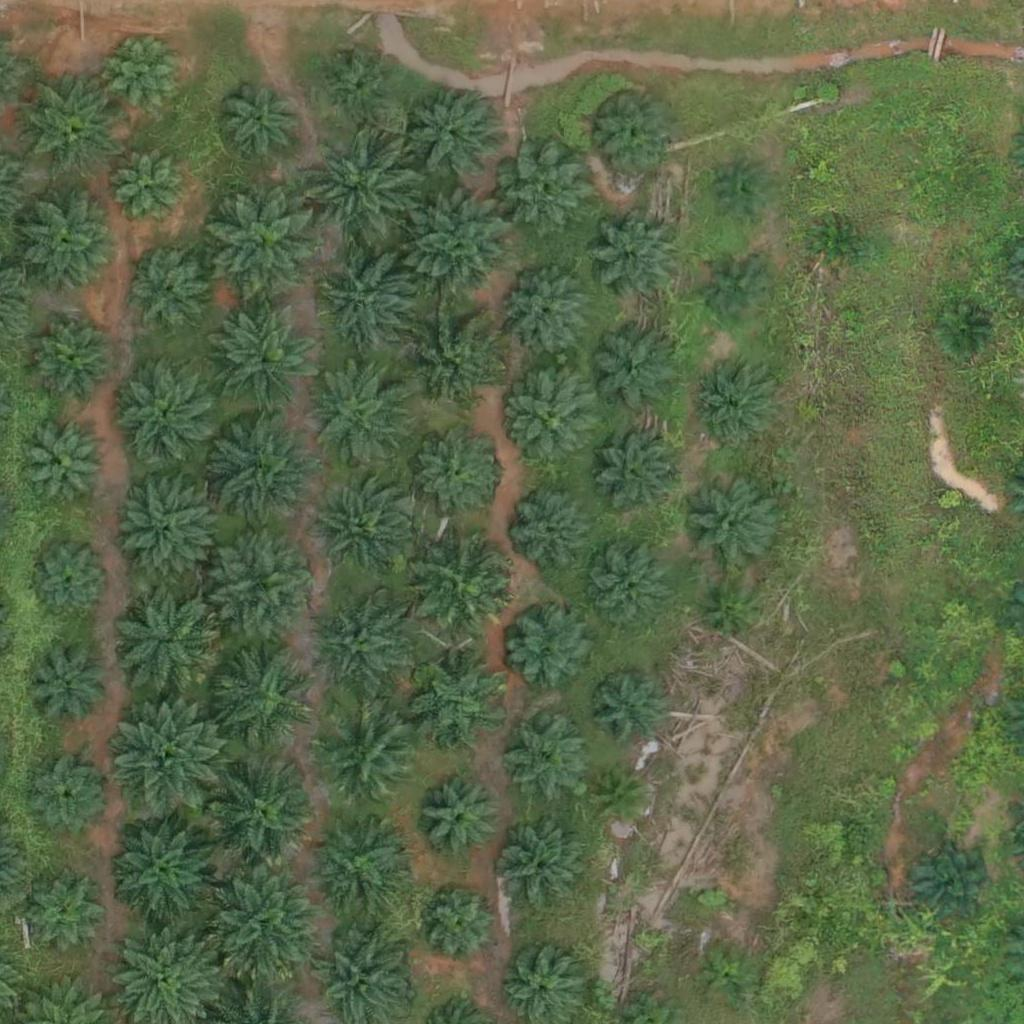Kelapa_Sawit: (307, 119, 432, 244), (209, 869, 322, 983), (109, 700, 222, 814), (209, 183, 322, 296), (214, 302, 327, 415), (208, 411, 321, 524), (108, 812, 221, 925), (208, 529, 320, 643), (211, 758, 323, 872), (111, 587, 223, 701), (308, 698, 420, 811), (21, 74, 121, 175), (322, 249, 422, 350), (312, 364, 412, 465), (312, 485, 412, 586), (410, 195, 510, 296), (402, 311, 502, 412), (416, 534, 516, 635), (489, 813, 589, 914), (411, 655, 511, 756), (21, 194, 121, 294), (118, 361, 218, 461), (121, 475, 221, 575), (315, 596, 415, 696), (312, 818, 412, 918), (211, 647, 311, 747), (508, 373, 596, 462), (411, 93, 499, 181), (412, 428, 500, 516), (508, 485, 596, 573), (507, 605, 595, 693), (691, 360, 779, 448), (505, 710, 593, 798), (218, 79, 305, 168), (106, 32, 193, 120), (23, 644, 110, 732), (29, 538, 116, 626), (502, 147, 589, 235), (504, 272, 591, 360), (592, 214, 679, 302), (590, 327, 677, 415), (590, 429, 677, 517), (584, 547, 671, 635), (691, 479, 778, 567), (908, 838, 995, 926), (415, 776, 502, 864), (27, 747, 114, 835), (22, 867, 109, 955), (597, 93, 672, 169), (425, 885, 500, 961), (34, 323, 109, 399), (29, 427, 104, 503), (136, 256, 211, 332), (111, 149, 186, 224), (593, 672, 668, 747), (708, 259, 770, 322), (331, 56, 393, 119), (809, 213, 871, 275), (704, 589, 754, 640), (706, 950, 756, 1001), (598, 770, 648, 821), (718, 169, 768, 219), (939, 308, 989, 358)
